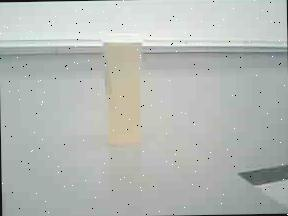Bottle A: (96, 26, 154, 149)
